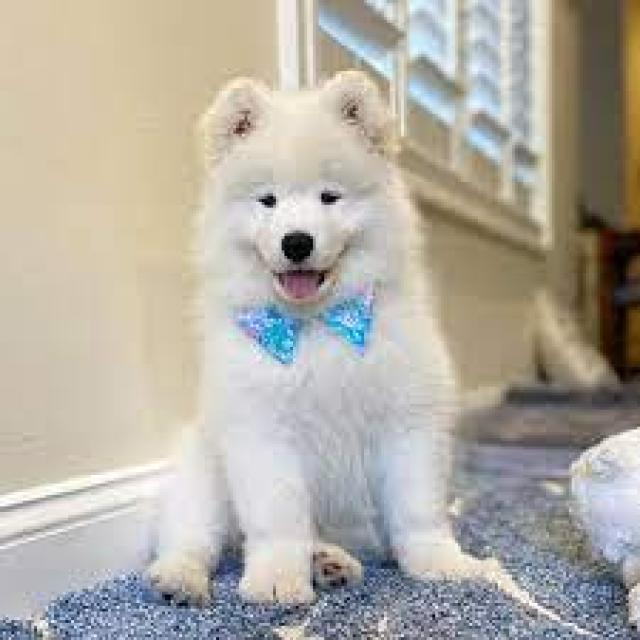dogs: (140, 68, 482, 608)
